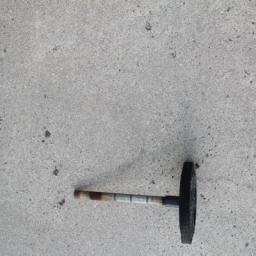FOD: (71, 159, 211, 246)
